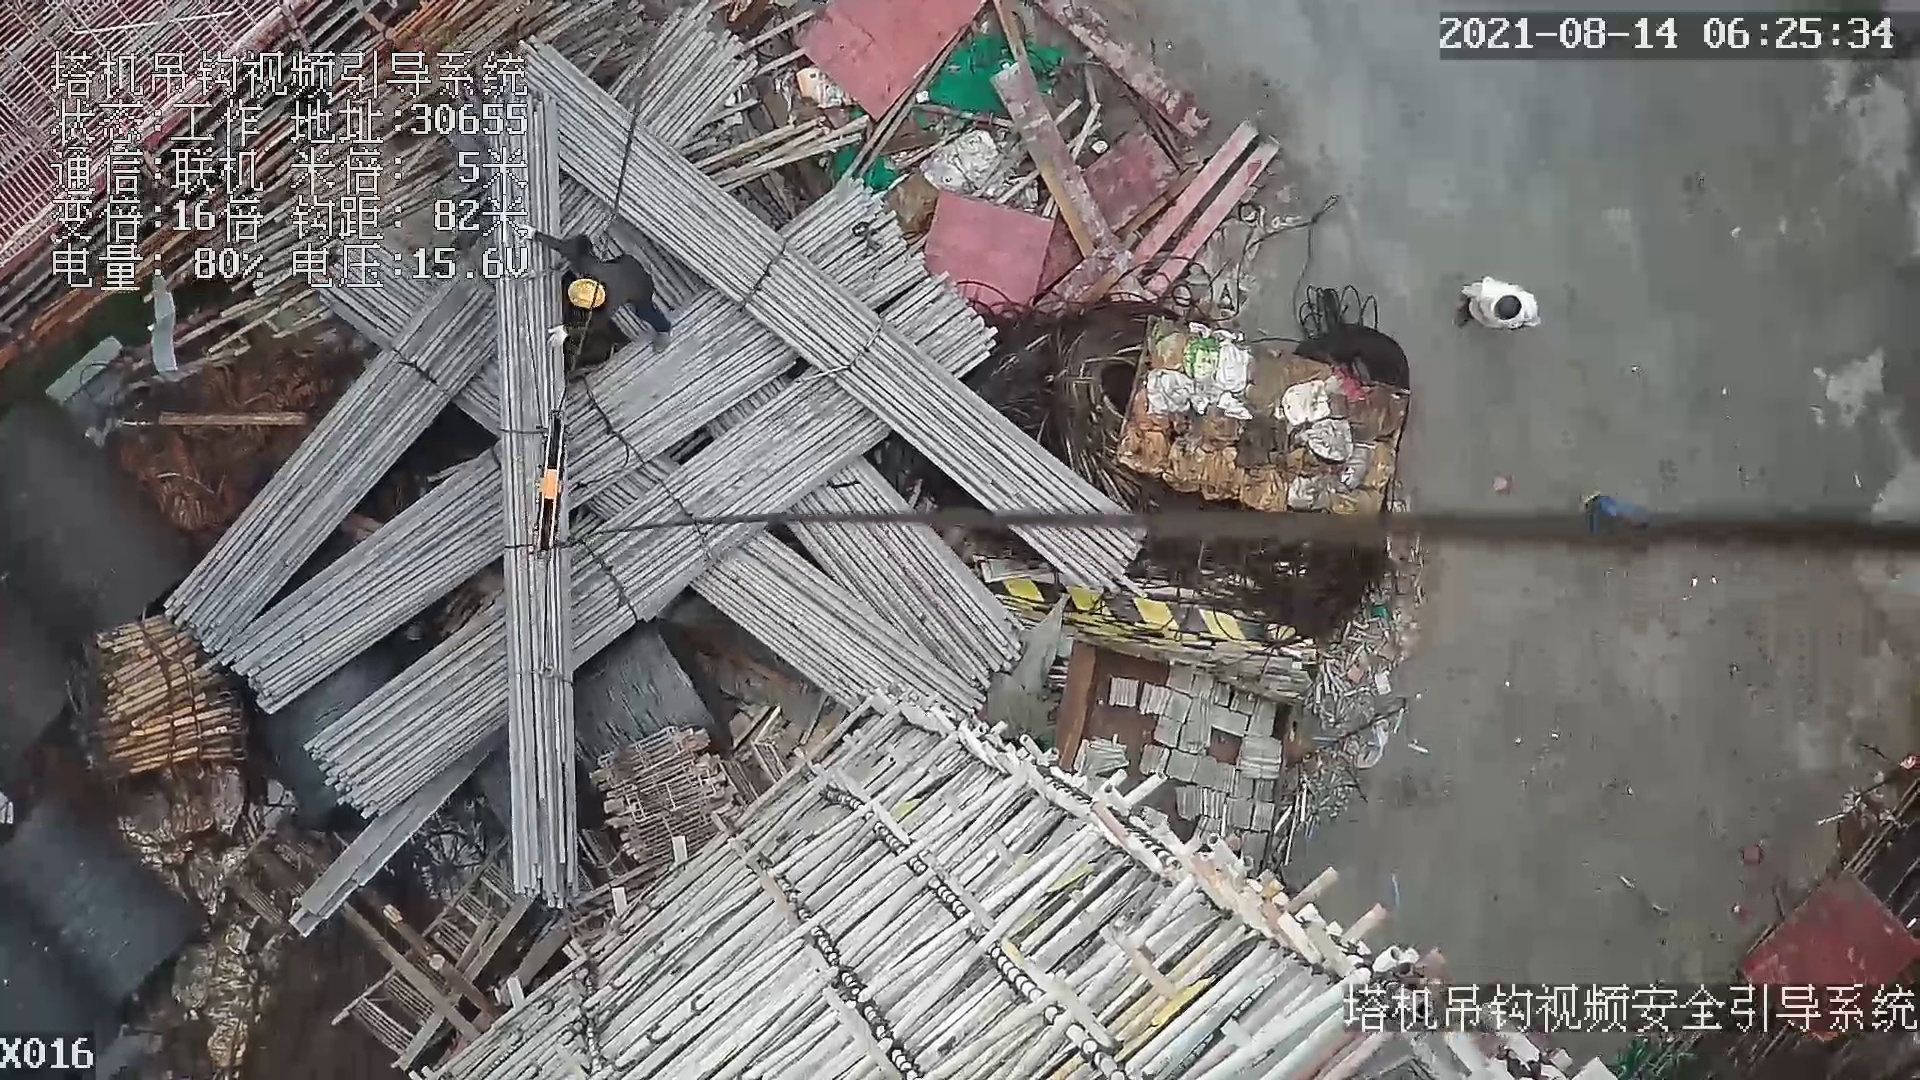helmet: (565, 277, 606, 310)
hook: (536, 406, 573, 563)
person: (523, 222, 677, 356), (1462, 277, 1541, 333)
